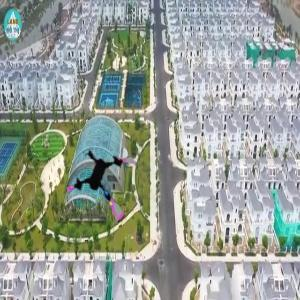drone: (63, 143, 147, 227)
